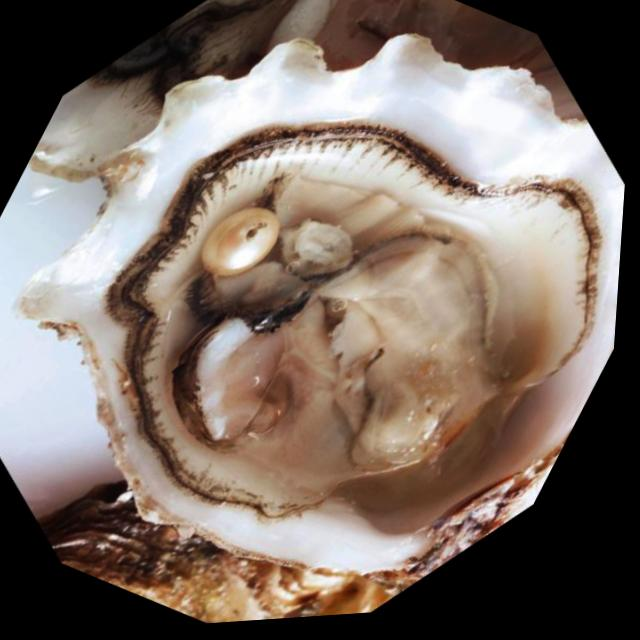Oyster-Indeterminate: (41, 495, 386, 623)
Oyster-Open: (11, 34, 625, 576)
